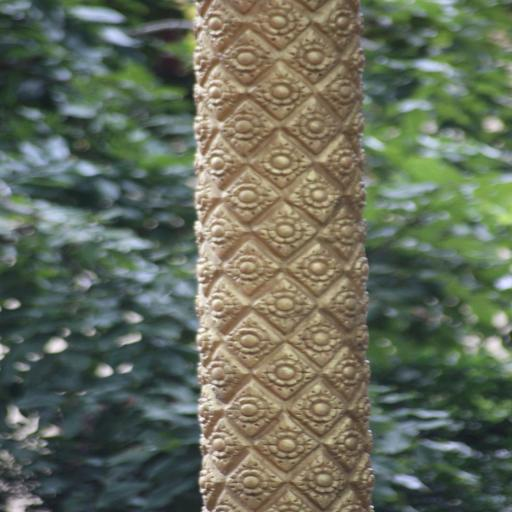hoa: (253, 61, 307, 115), (286, 460, 350, 503), (251, 0, 307, 48), (262, 350, 312, 398), (255, 135, 304, 183), (290, 101, 339, 148), (225, 318, 274, 365), (224, 104, 276, 148), (322, 64, 366, 112), (294, 249, 346, 289), (260, 421, 308, 463), (230, 461, 278, 503), (228, 388, 277, 429), (231, 248, 276, 292), (292, 174, 336, 217), (227, 174, 272, 216), (196, 3, 242, 44), (299, 385, 340, 430), (267, 208, 307, 254), (292, 32, 335, 74), (265, 282, 305, 327), (314, 2, 356, 44), (199, 353, 242, 394), (199, 68, 237, 114), (328, 346, 364, 391), (228, 39, 270, 77), (209, 284, 246, 327), (321, 138, 360, 178), (202, 425, 239, 466), (299, 318, 338, 356), (206, 209, 238, 255), (330, 211, 364, 254), (199, 147, 239, 183), (332, 420, 366, 461), (338, 282, 368, 323), (191, 116, 220, 144)
